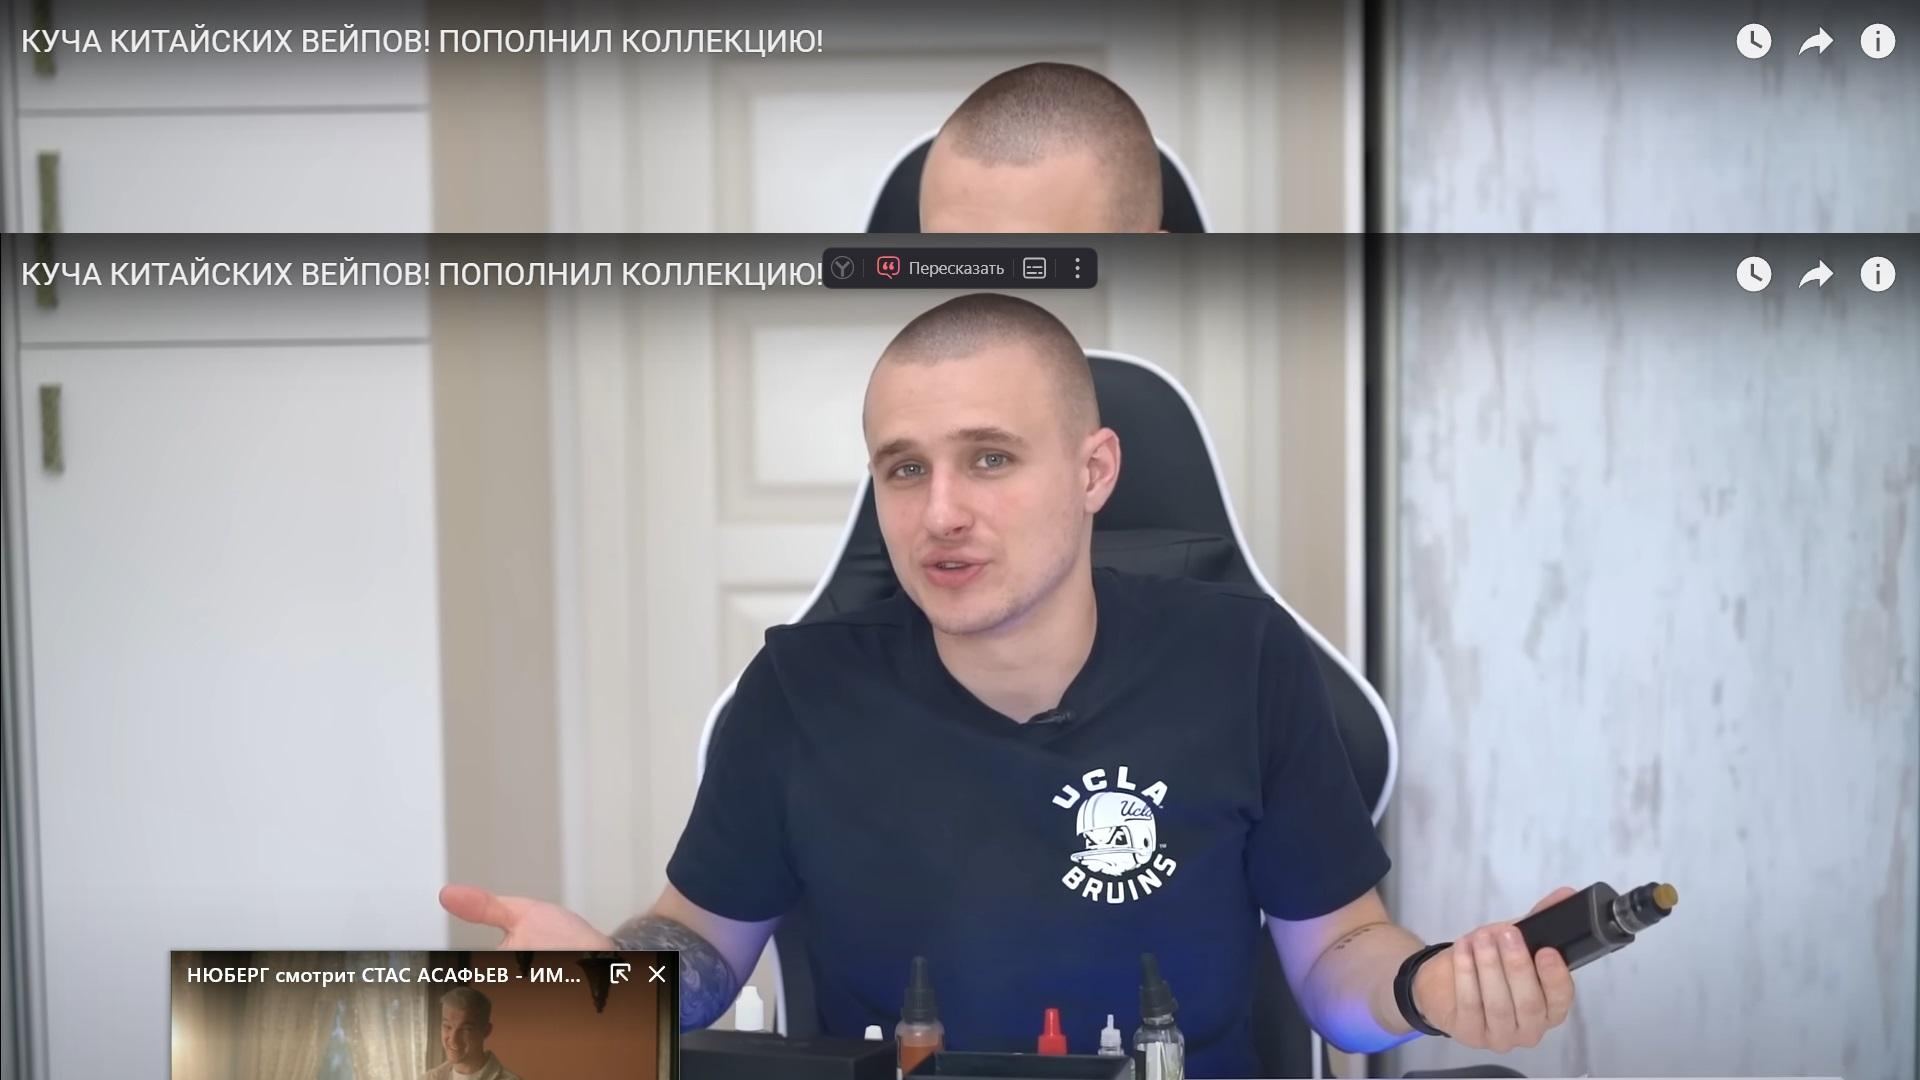Vape: (1516, 881, 1677, 969)
